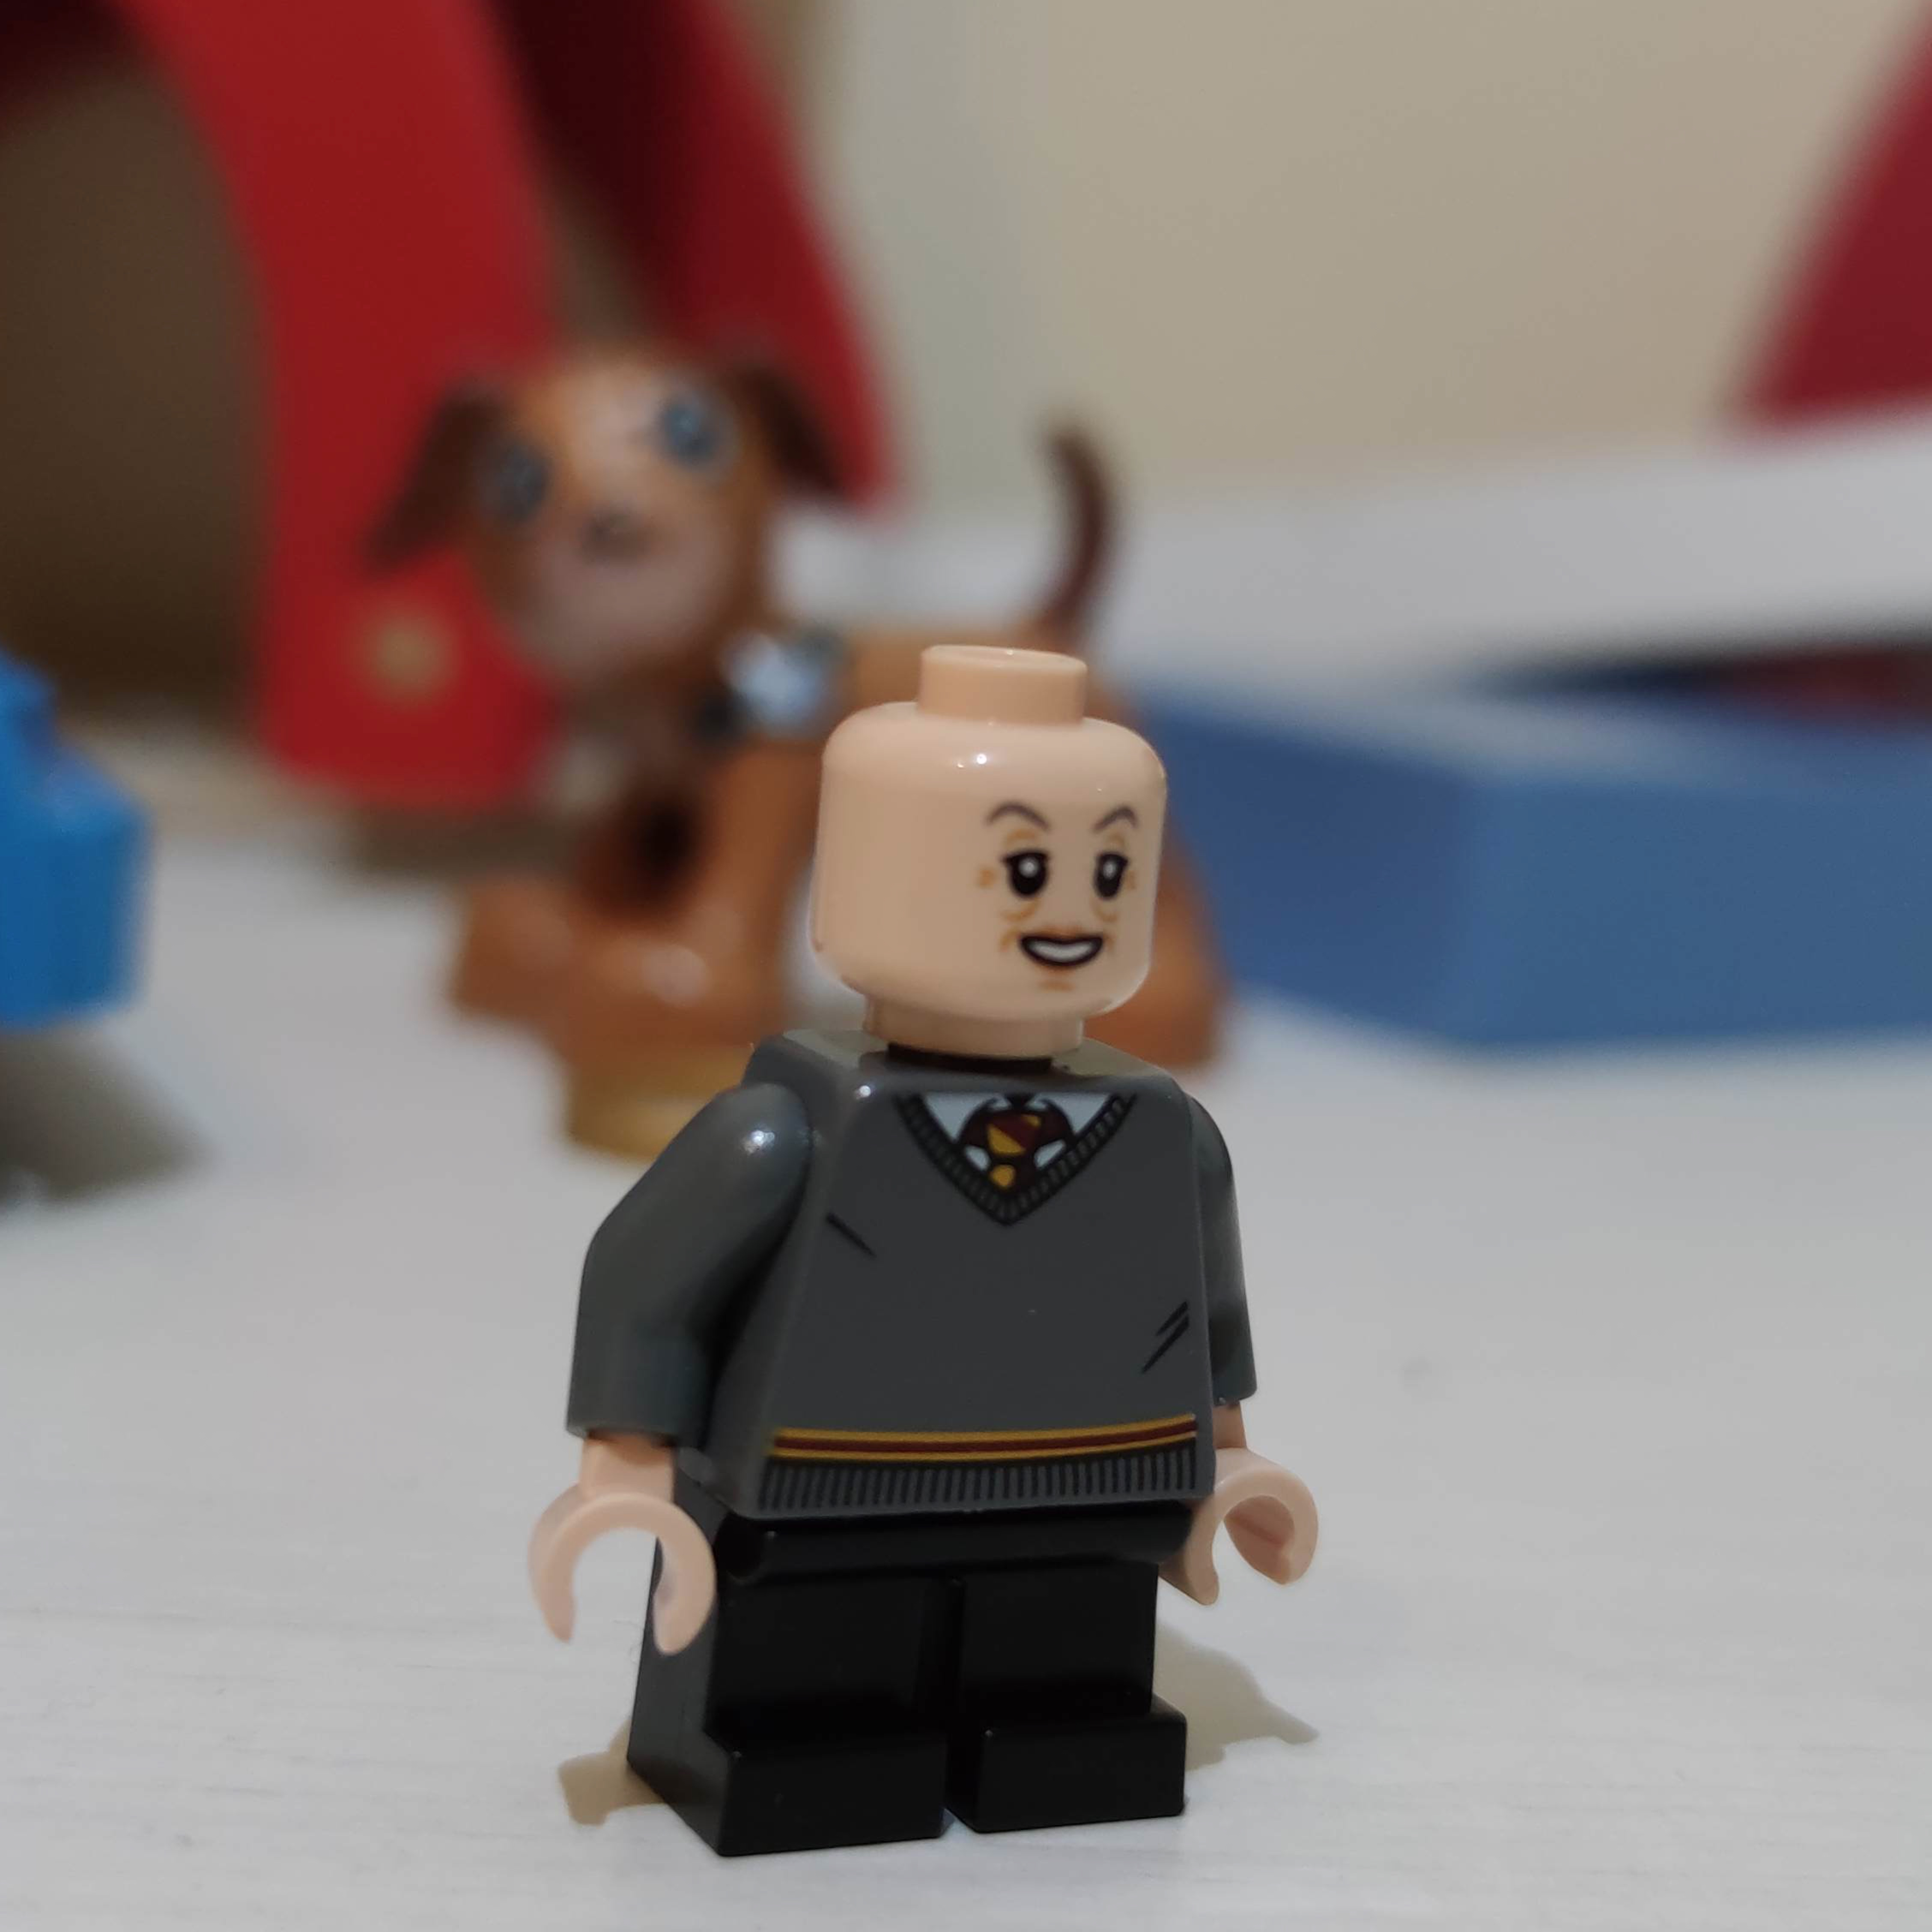lego: (524, 648, 1323, 1868)
